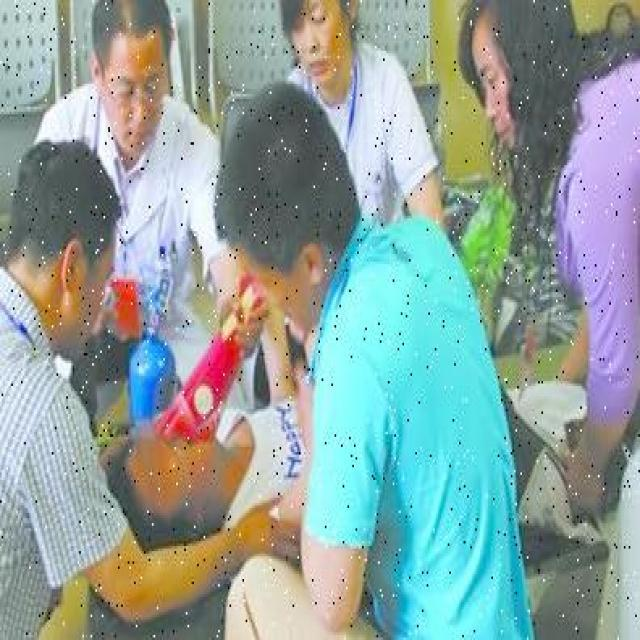fall: (110, 374, 567, 538)
